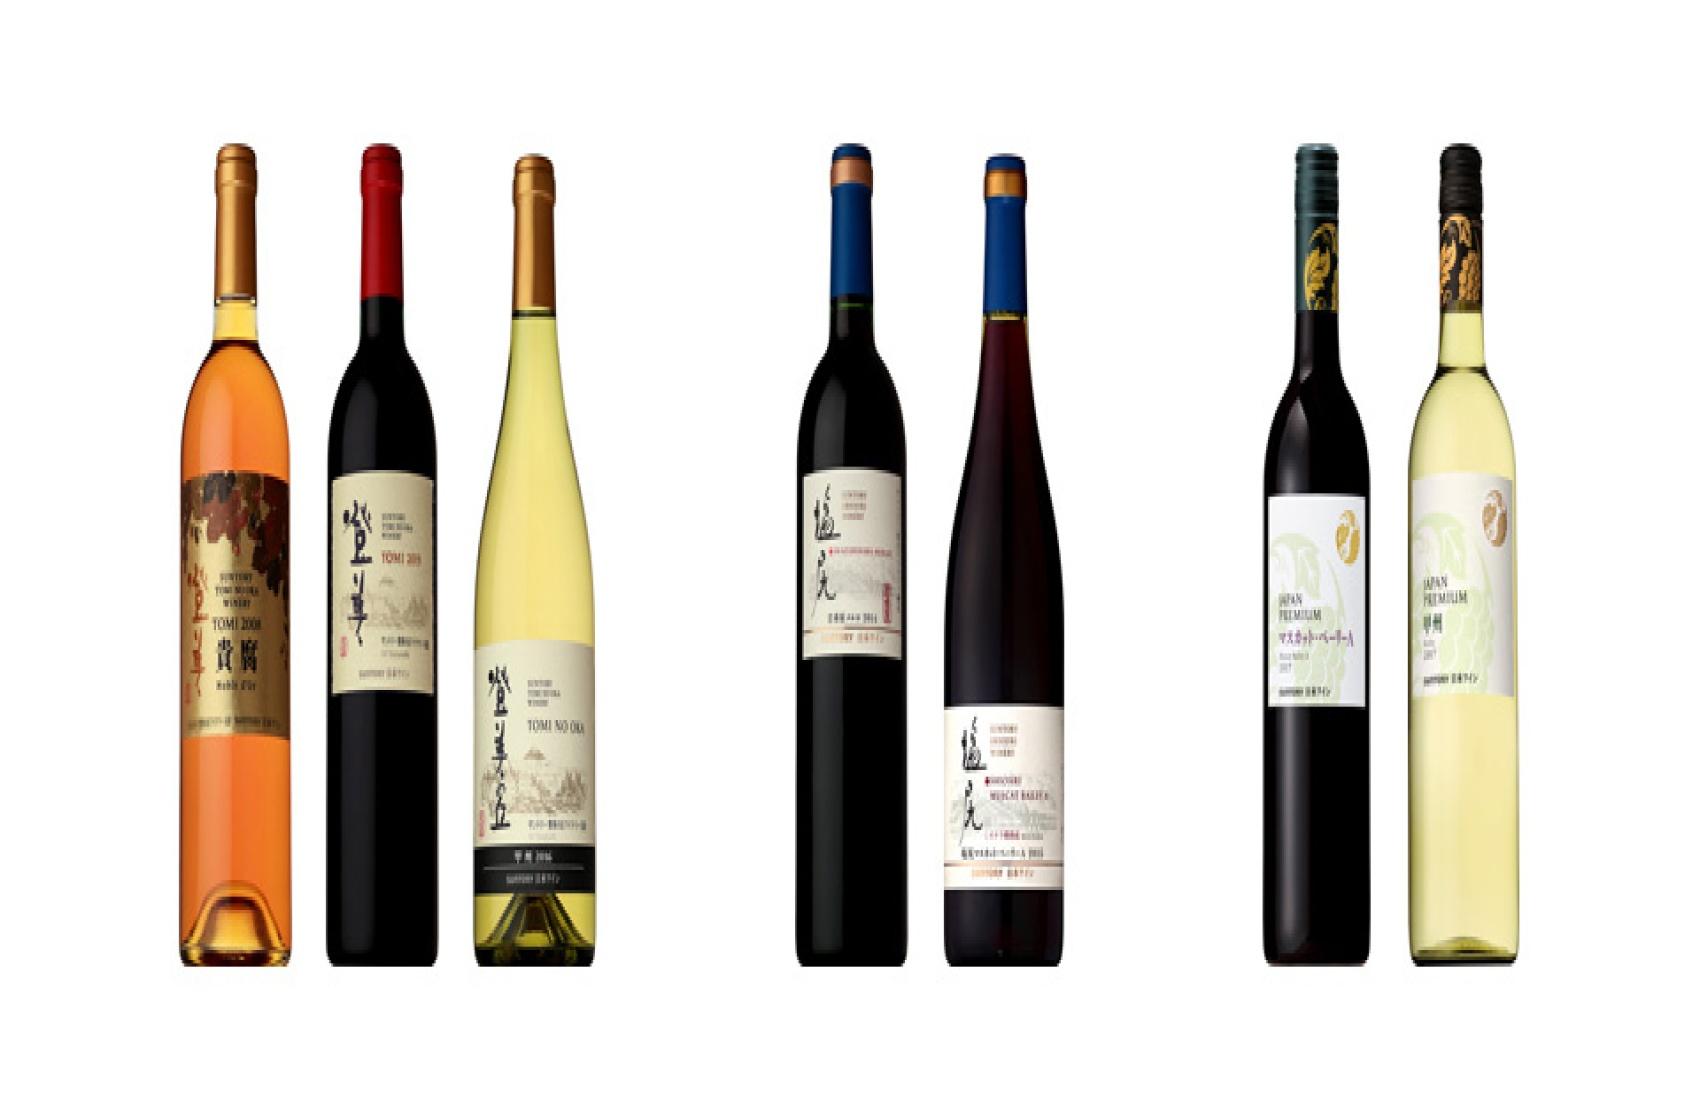wine: (478, 129, 594, 964), (1258, 131, 1373, 966), (1408, 130, 1523, 965), (178, 133, 292, 967), (795, 111, 909, 946), (945, 115, 1059, 950), (323, 121, 437, 956)
